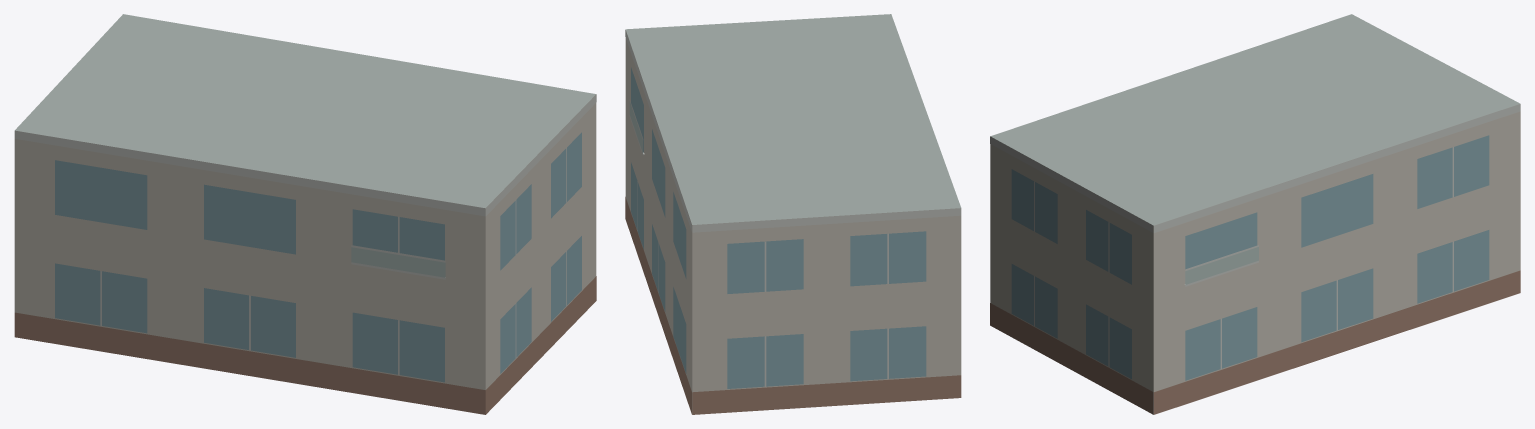
Rendered from survey-upis-32606735.glb.
3 renders of one model, left to right at view 1: azimuth 30°, elevation 25°; view 2: azimuth 150°, elevation 25°; view 3: azimuth 270°, elevation 25°, orthographic. The views are drawn at different scales.
Visible parts, largest first — view 1: survey-upis-32606735.tmp; view 2: survey-upis-32606735.tmp; view 3: survey-upis-32606735.tmp.
Boxes of the visible parts, <box> form: survey-upis-32606735.tmp: <box>14,14,596,414</box>; survey-upis-32606735.tmp: <box>625,14,961,414</box>; survey-upis-32606735.tmp: <box>990,14,1520,414</box>.
Size of the model in its own units: 14.64 by 6.1 by 15.51.
